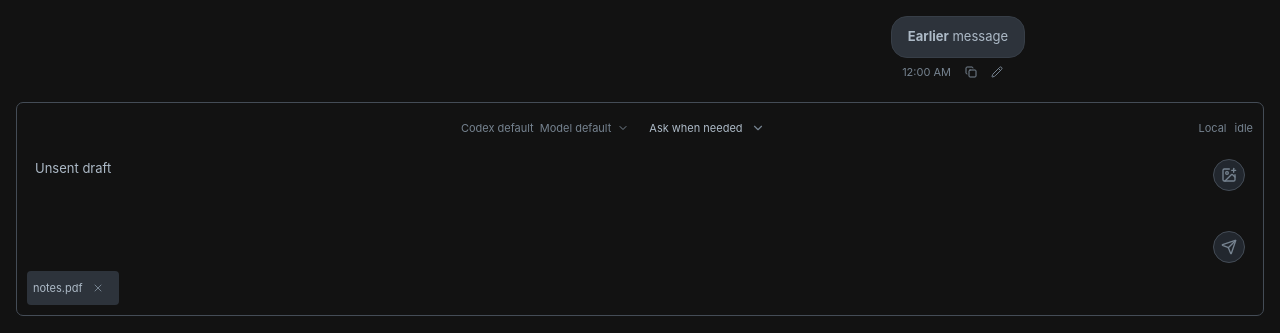
clears the visible editor and attachments after a successful send
Click the button named "Send" at (1229, 246), box x1=1213 y1=230 x2=1245 y2=262
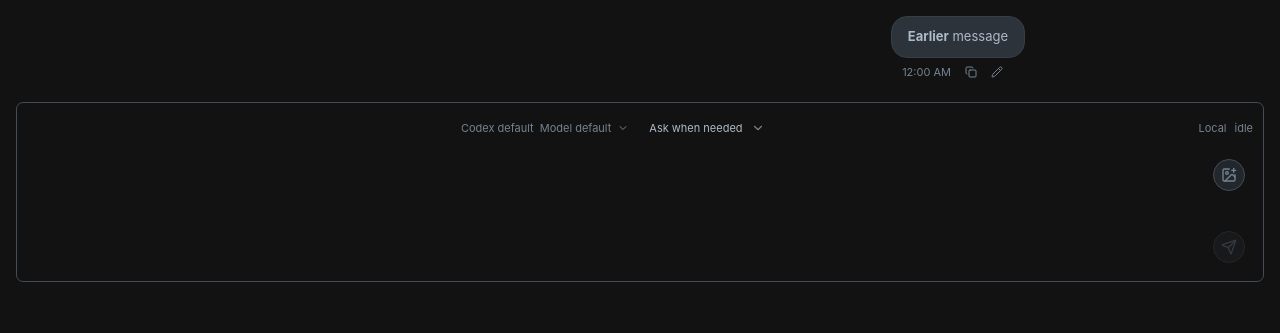
expect the field named "Message Codex" is empty: met, box x1=27 y1=150 x2=1253 y2=270
expect the button named "Send" is disabled: met, box x1=1213 y1=230 x2=1245 y2=262
